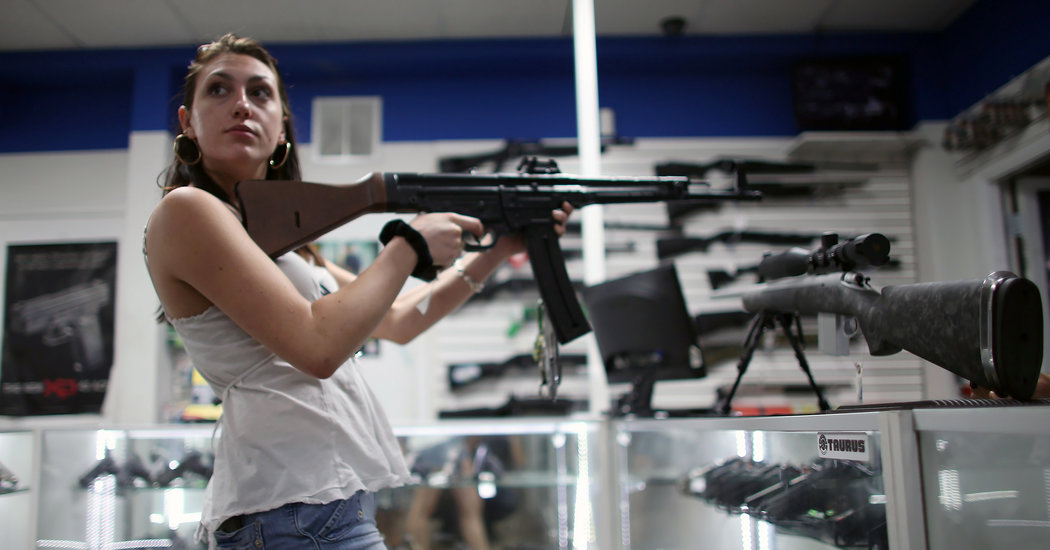Gun: (748, 233, 996, 374), (393, 170, 720, 258)
